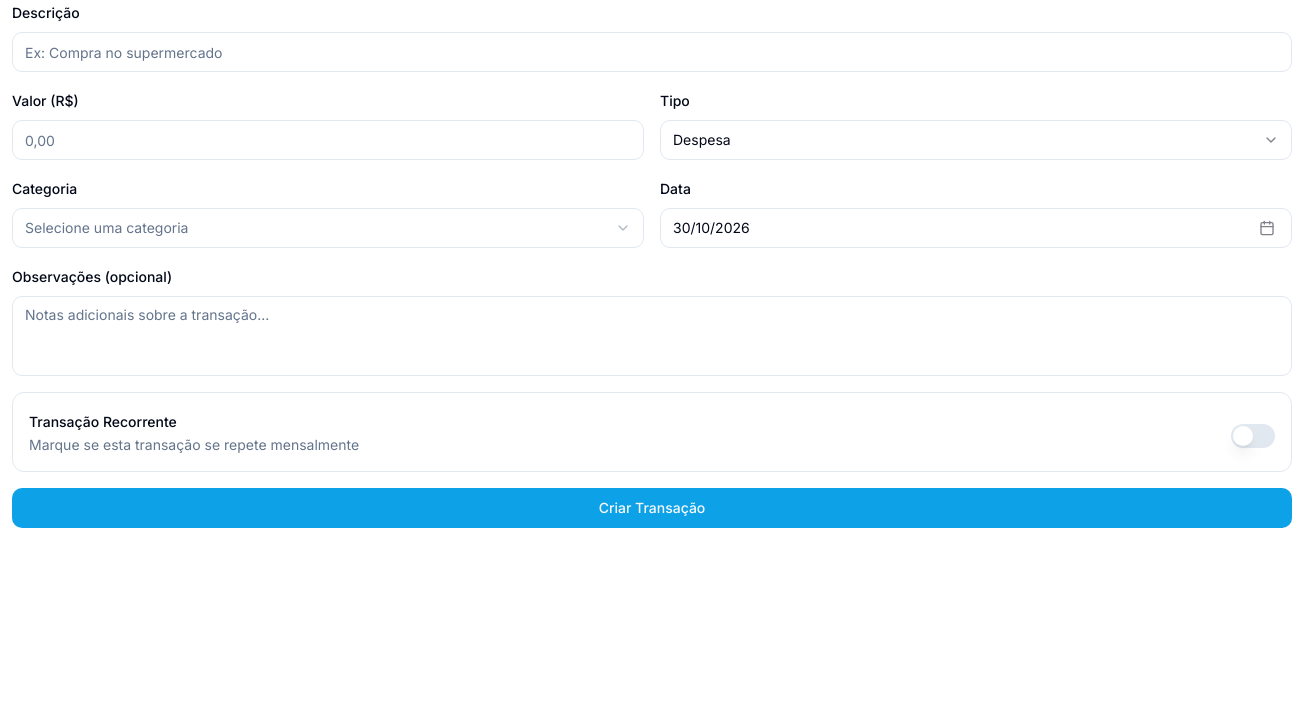
Test case: TransactionForm › deve exibir erro quando descrição está vazia
Clear the field labelled "Descrição" at {"x": 652, "y": 52}, box x1=12 y1=32 x2=1292 y2=72
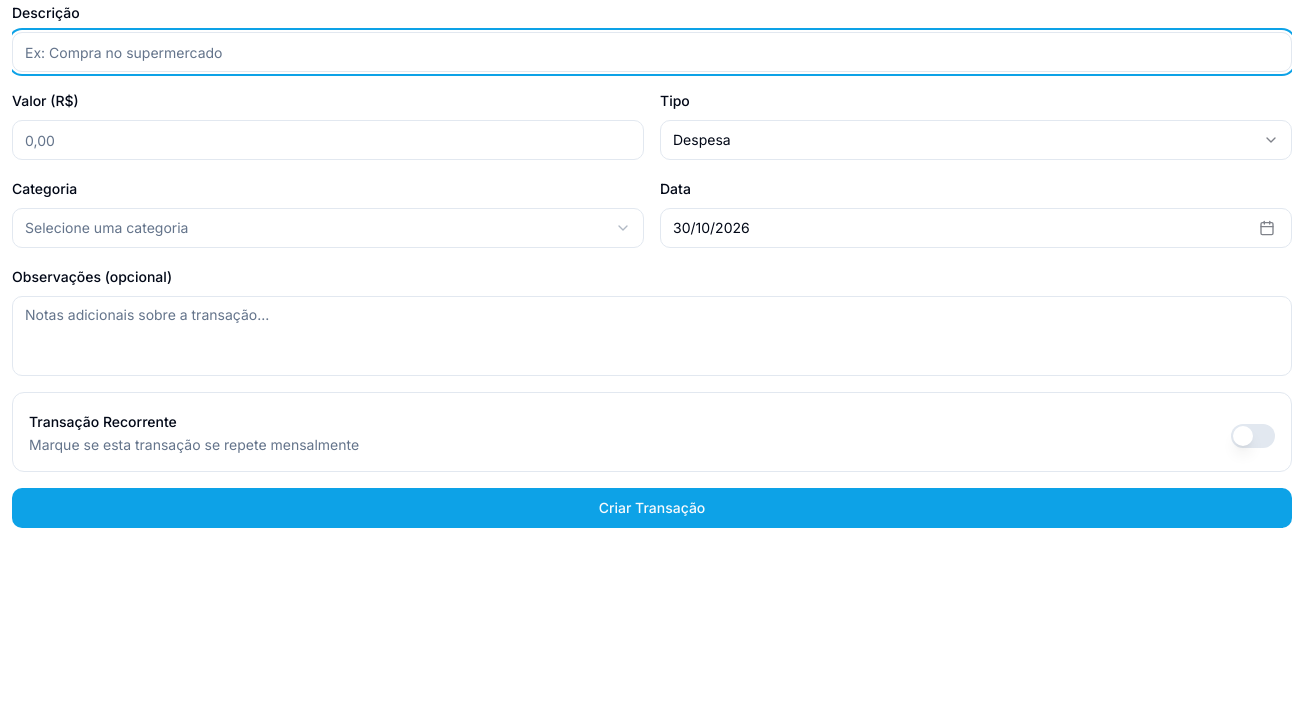
Click the button "Criar Transação" at {"x": 652, "y": 508}, box x1=12 y1=488 x2=1292 y2=528
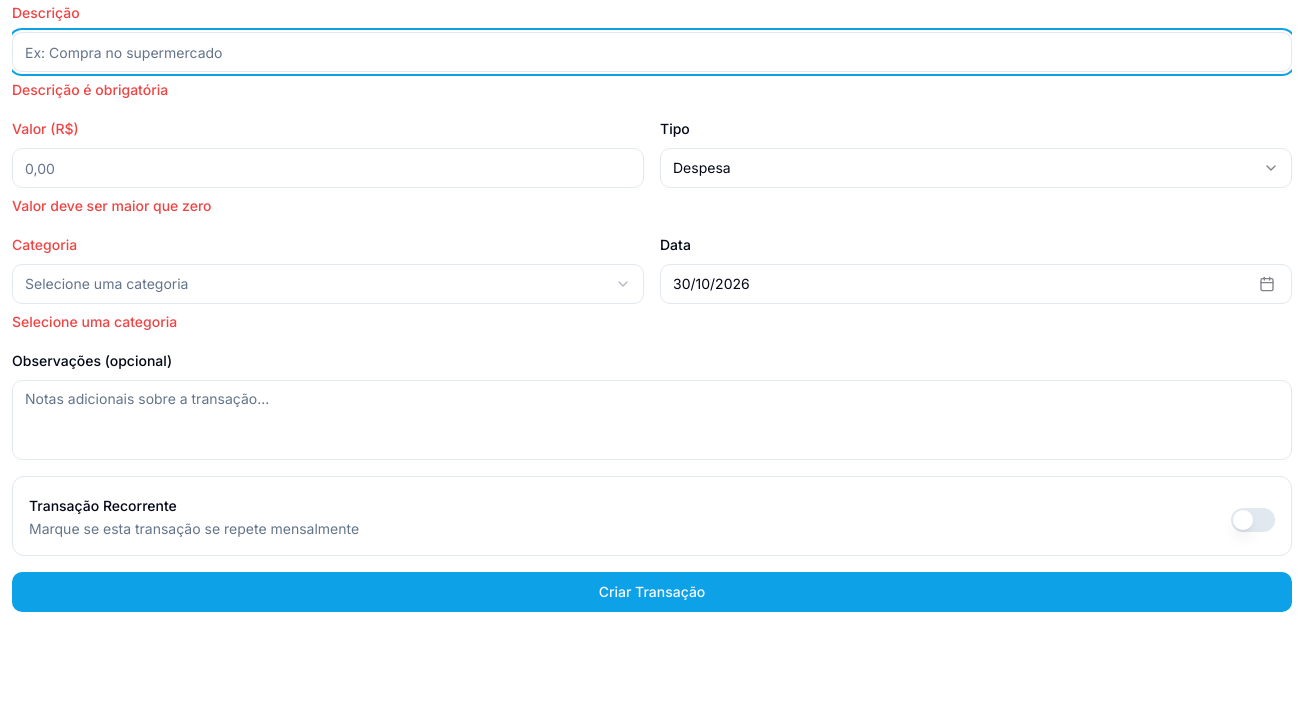
Expected: the text "Descrição é obrigatória" is shown, x1=12 y1=81 x2=168 y2=98
